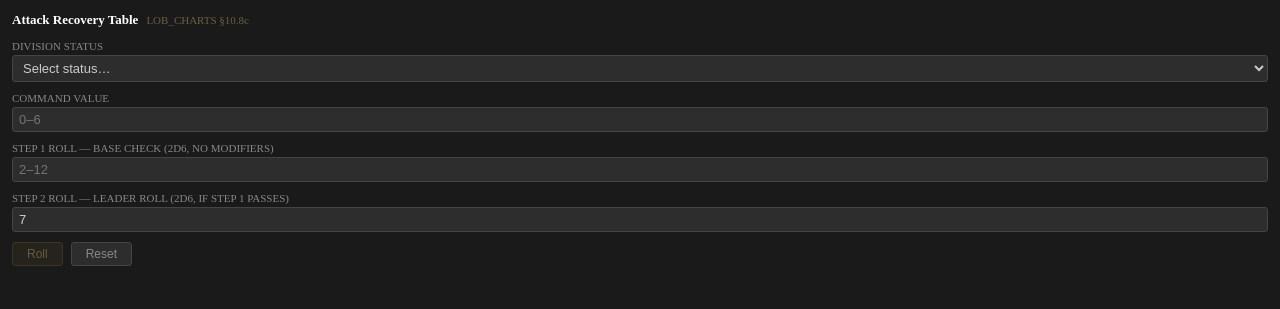
Scenario: AttackRecoveryPanel › displays error on fetch failure
Select "Has Wrecked units, no Dead (threshold 9)" in the dropdown labelled "Division Status" at coordinates (640, 68), box [12,55,1268,82]
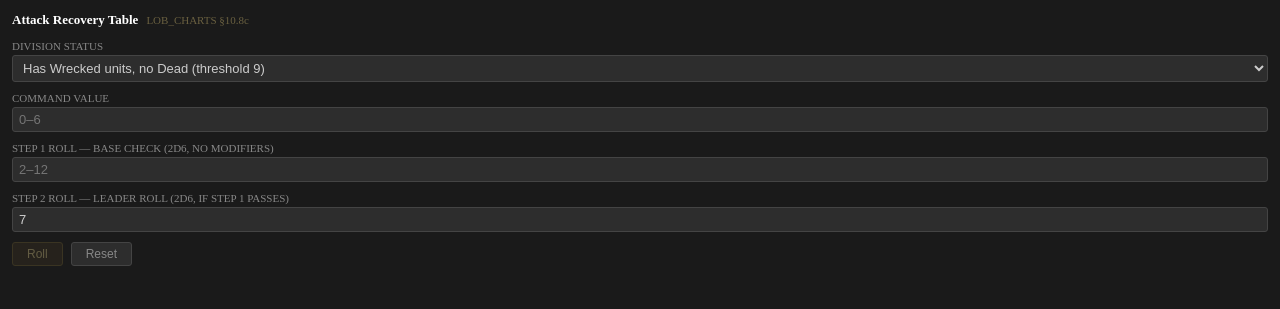
Type "3" into the number field labelled "Command Value" at coordinates (640, 120), box [12,107,1268,132]
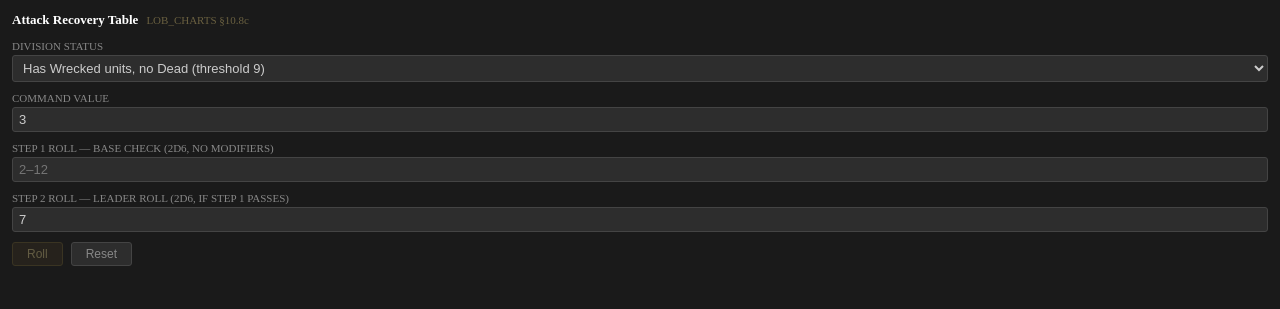
Type "10" into the number field labelled "Step 1 Roll — Base Check (2d6, no modifiers)" at coordinates (640, 170), box [12,157,1268,182]
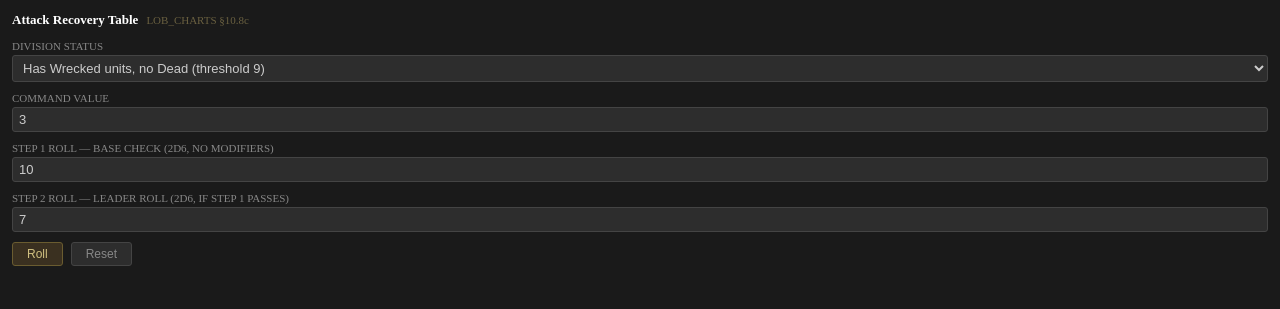
Click the button "Roll" at coordinates (37, 254), box [12,242,63,266]
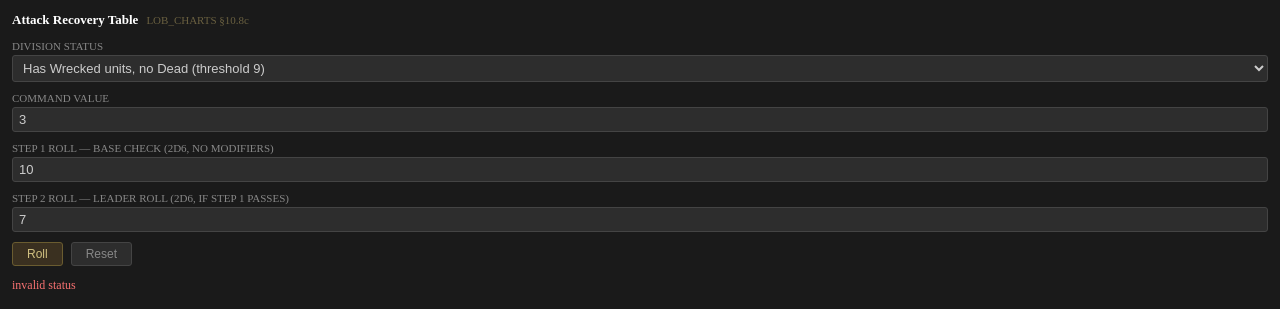
Expected: the text "invalid status" is shown, [12,278,76,292]
